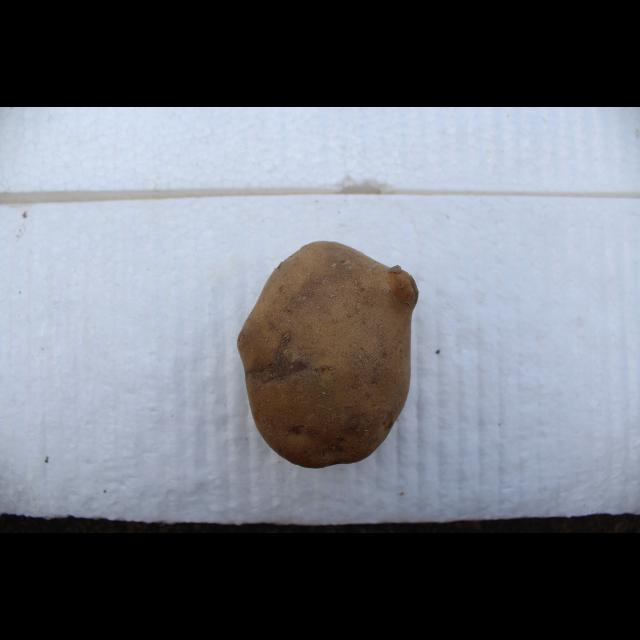Diseased-fungal potato: (235, 240, 419, 472)
